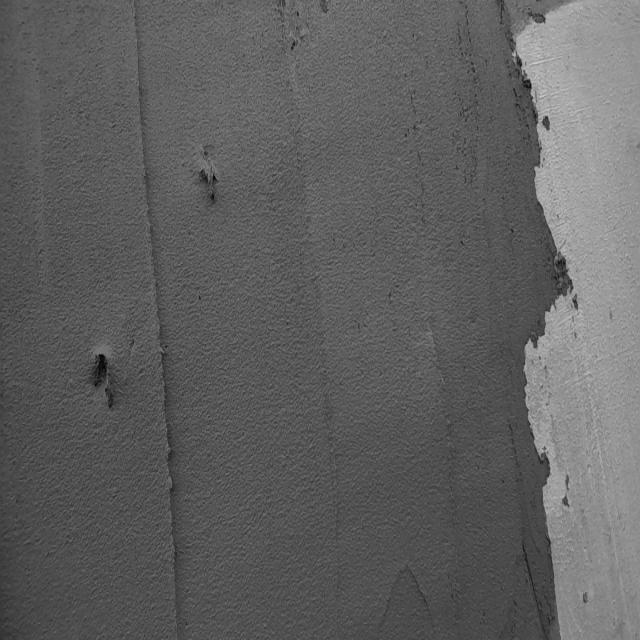trowels marks: (134, 9, 174, 640)
